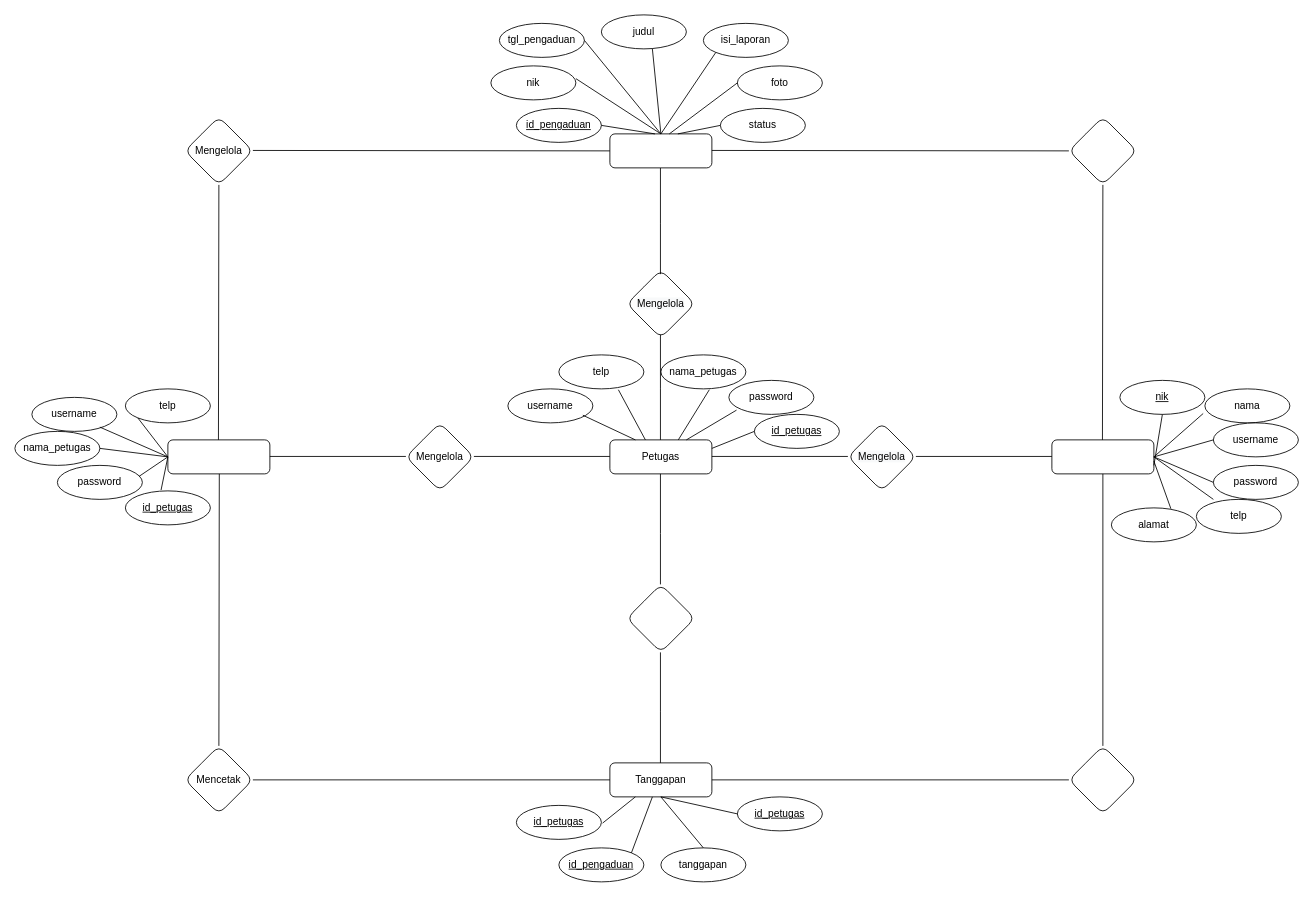
The diagram is 1313 pixels wide and 897 high, and some of its shapes have lost their labels. The shapes that lost their labels are listed below. From the top down, each one's centre as x and y in pixels, then its label:
At (660,150): "Pengaduan".
At (1102,150): "Mengirim".
At (218,456): "Admin".
At (1102,456): "Masyarakat".
At (660,618): "Memberi".
At (1102,779): "Mengambil".
